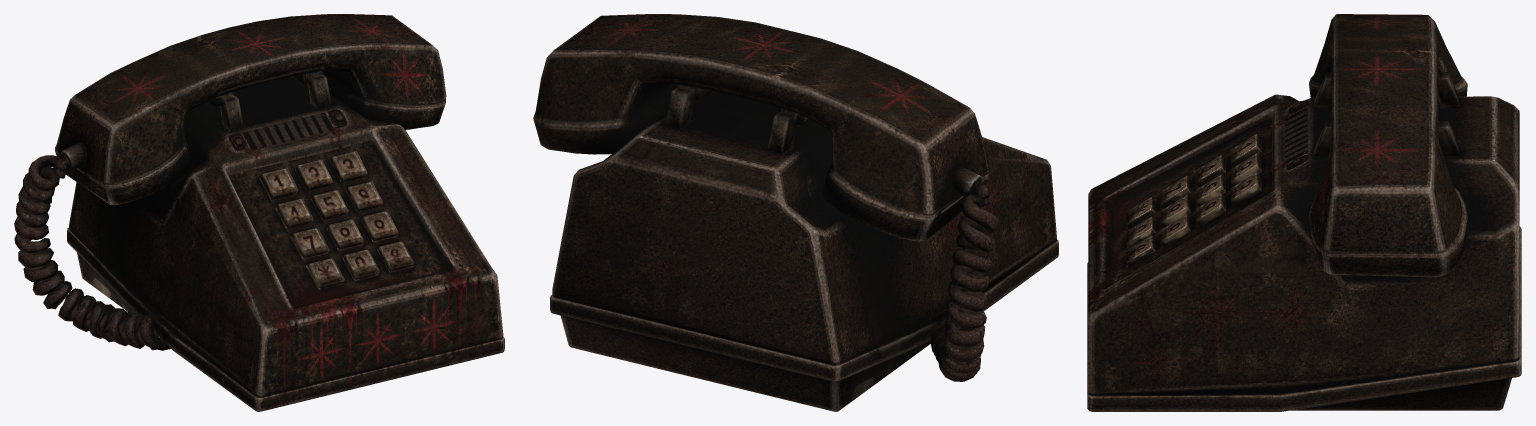
Rendered from Telefono.glb.
The picture shows the model from 3 angles, left to right: view 1: azimuth 30°, elevation 25°; view 2: azimuth 150°, elevation 25°; view 3: azimuth 270°, elevation 25°; orthographic projection. The views are drawn at different scales.
Parts seen in each view (by area): view 1: tripo_node_33499981-4372-4397-a9b4-69cfcf86133e; view 2: tripo_node_33499981-4372-4397-a9b4-69cfcf86133e; view 3: tripo_node_33499981-4372-4397-a9b4-69cfcf86133e.
Boxes of the visible parts, bbox=[...] form: tripo_node_33499981-4372-4397-a9b4-69cfcf86133e: bbox=[14, 14, 504, 411]; tripo_node_33499981-4372-4397-a9b4-69cfcf86133e: bbox=[533, 14, 1058, 411]; tripo_node_33499981-4372-4397-a9b4-69cfcf86133e: bbox=[1087, 14, 1521, 411].
Size of the model in its own units: 0.998 by 0.627 by 0.8652.
1 material, 1 textured.
